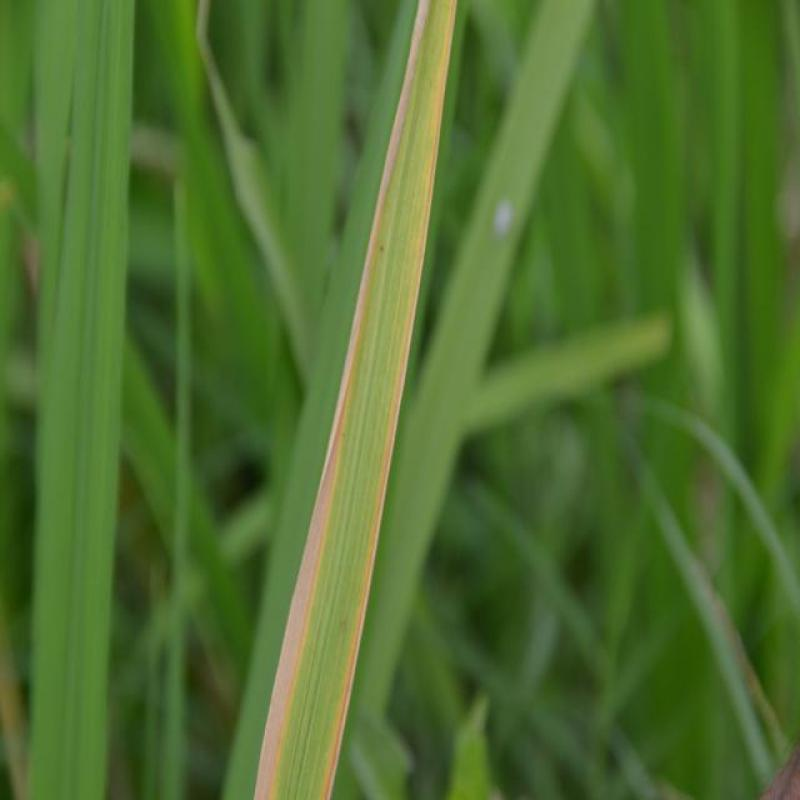Rice Tungro: (241, 9, 461, 800)
